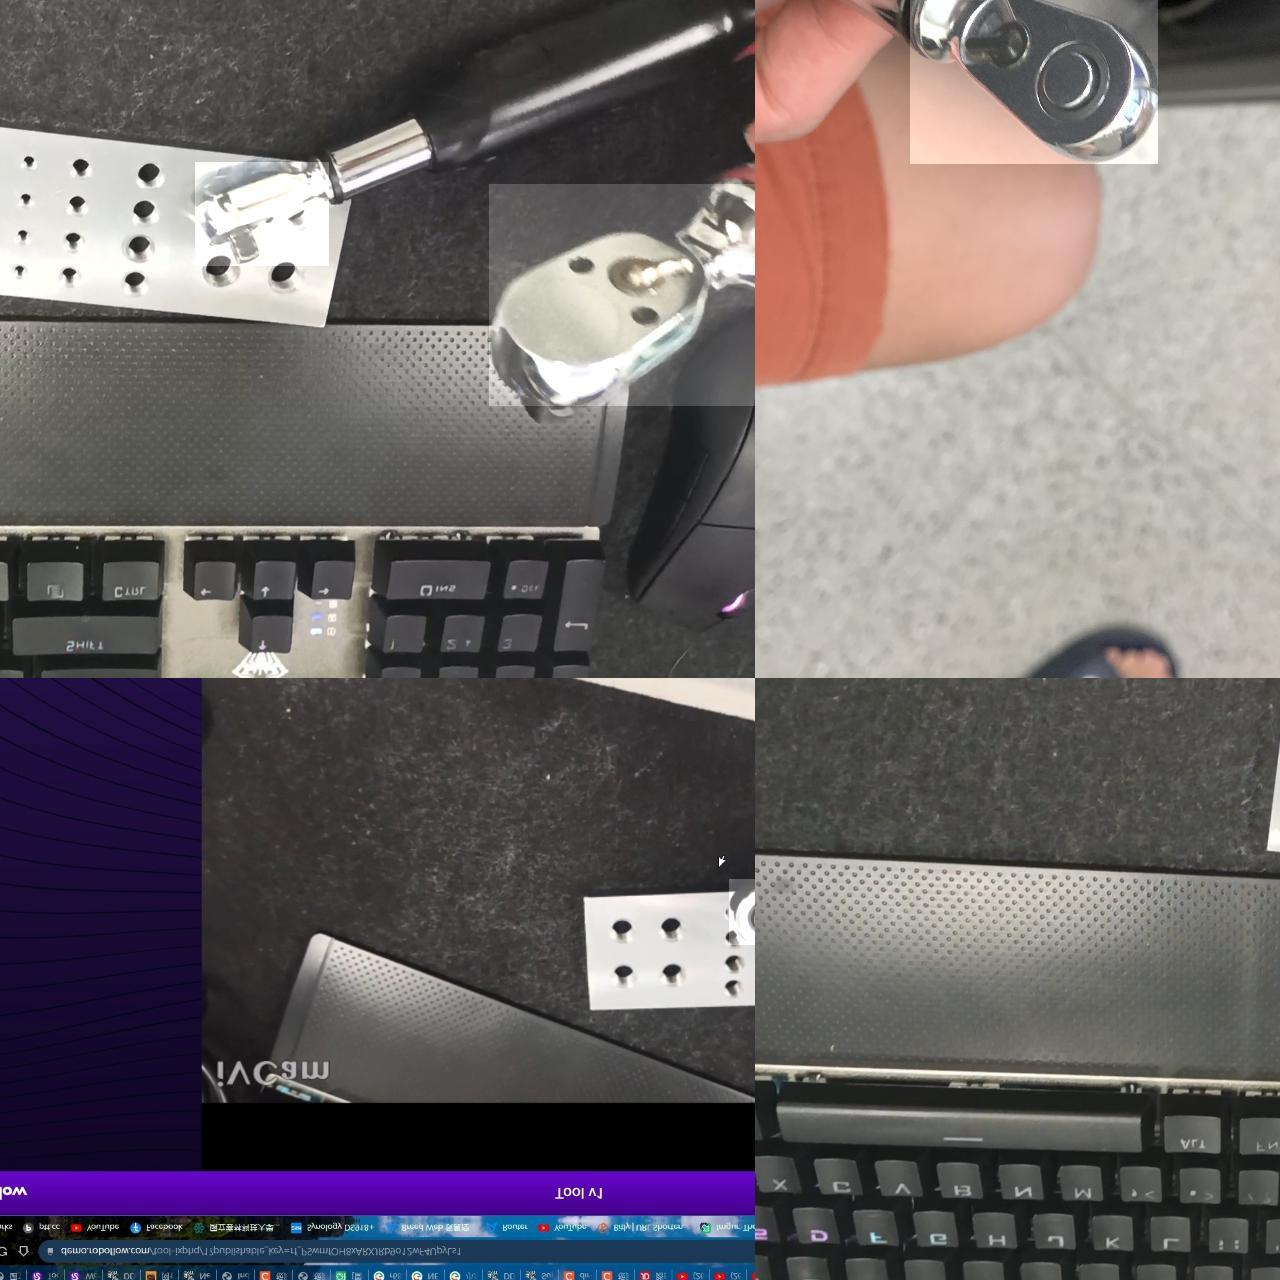Tool: (489, 184, 755, 406), (910, 0, 1158, 164), (195, 162, 329, 266), (729, 879, 755, 945)
